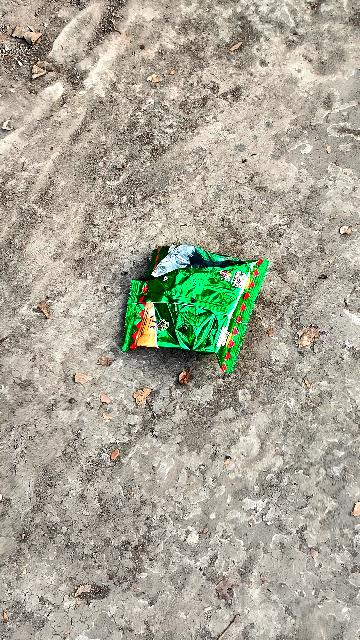packet: (130, 225, 272, 378)
